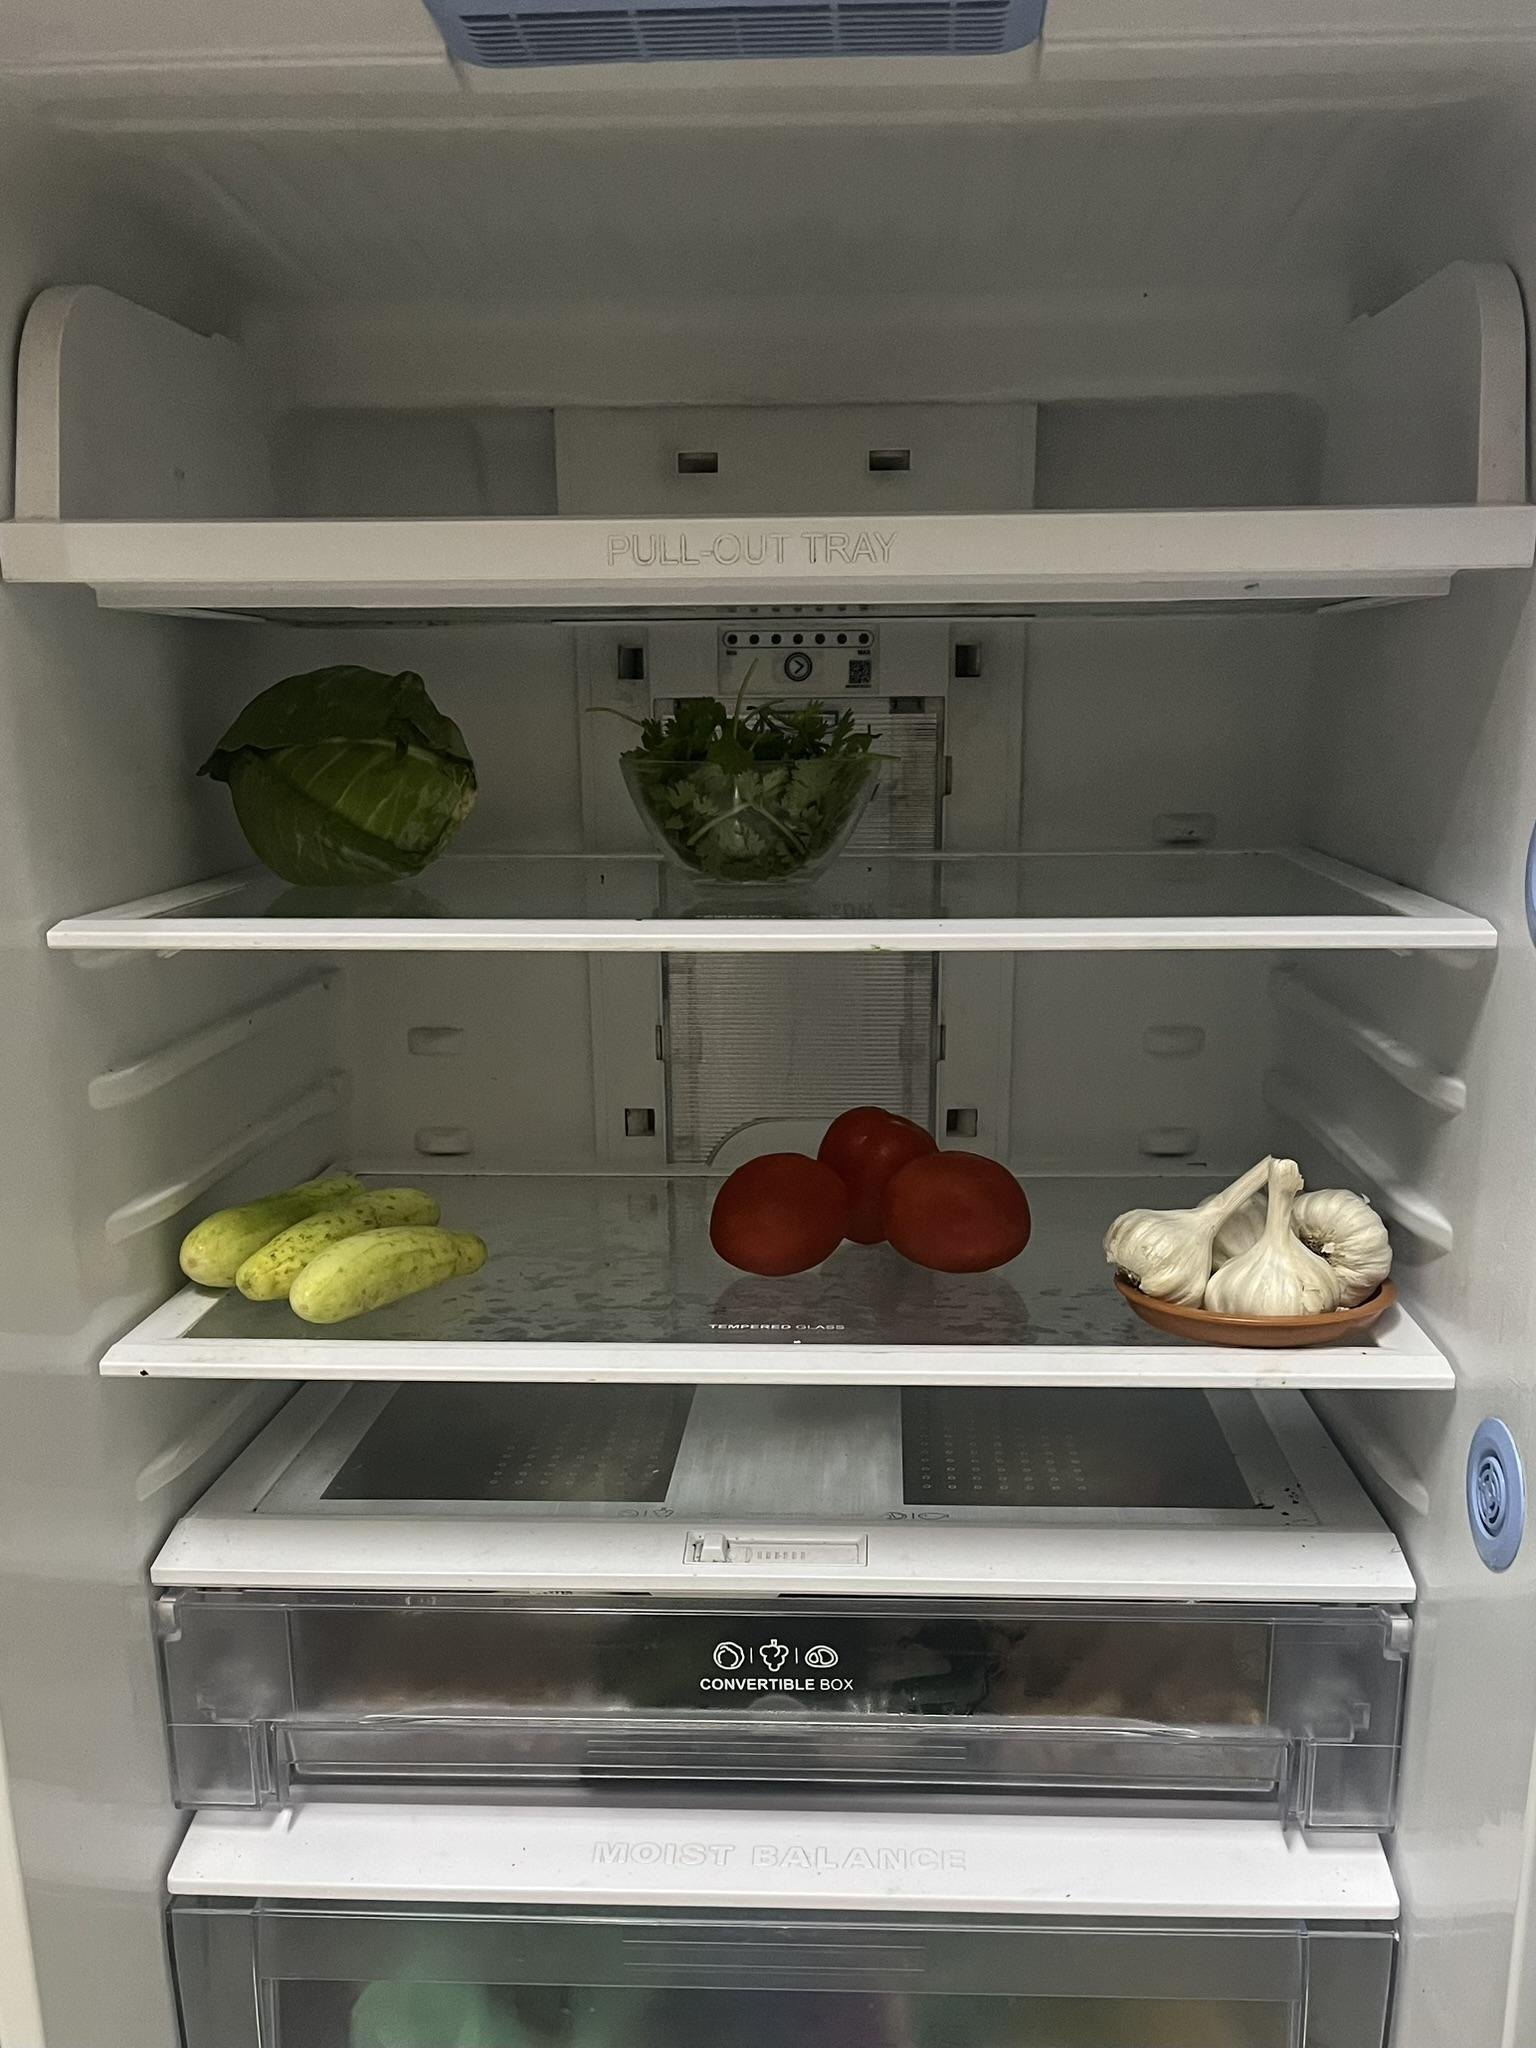cabbage: (210, 660, 470, 897)
coriander: (629, 684, 863, 887)
cucumber: (169, 1163, 494, 1327)
garlic: (1107, 1147, 1410, 1324)
tomato: (707, 1109, 1037, 1280)
